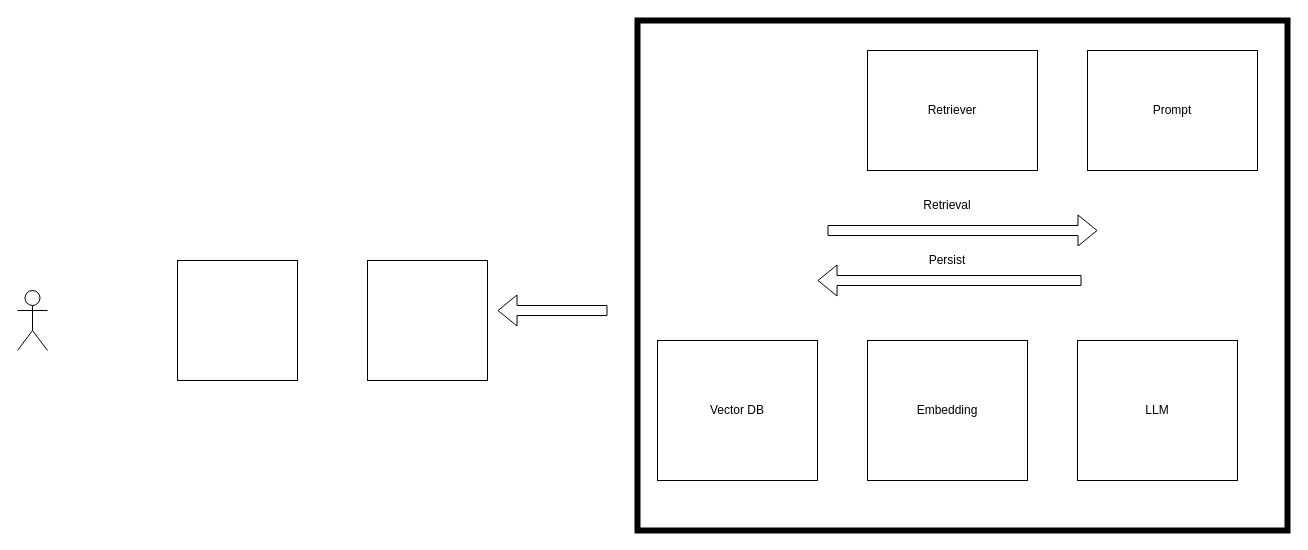
Image size: 1308x550. Some labels were removed from this diagram. The centre of each missing label's shape, as x and y in pixels:
"LangServe" goes at (x=427, y=320).
"Streamlit" goes at (x=237, y=320).
"User" goes at (x=32, y=320).
